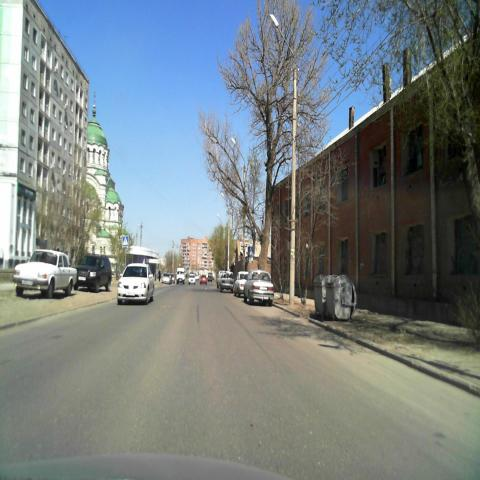5_19_1: (122, 236, 129, 247), (247, 246, 253, 256)
